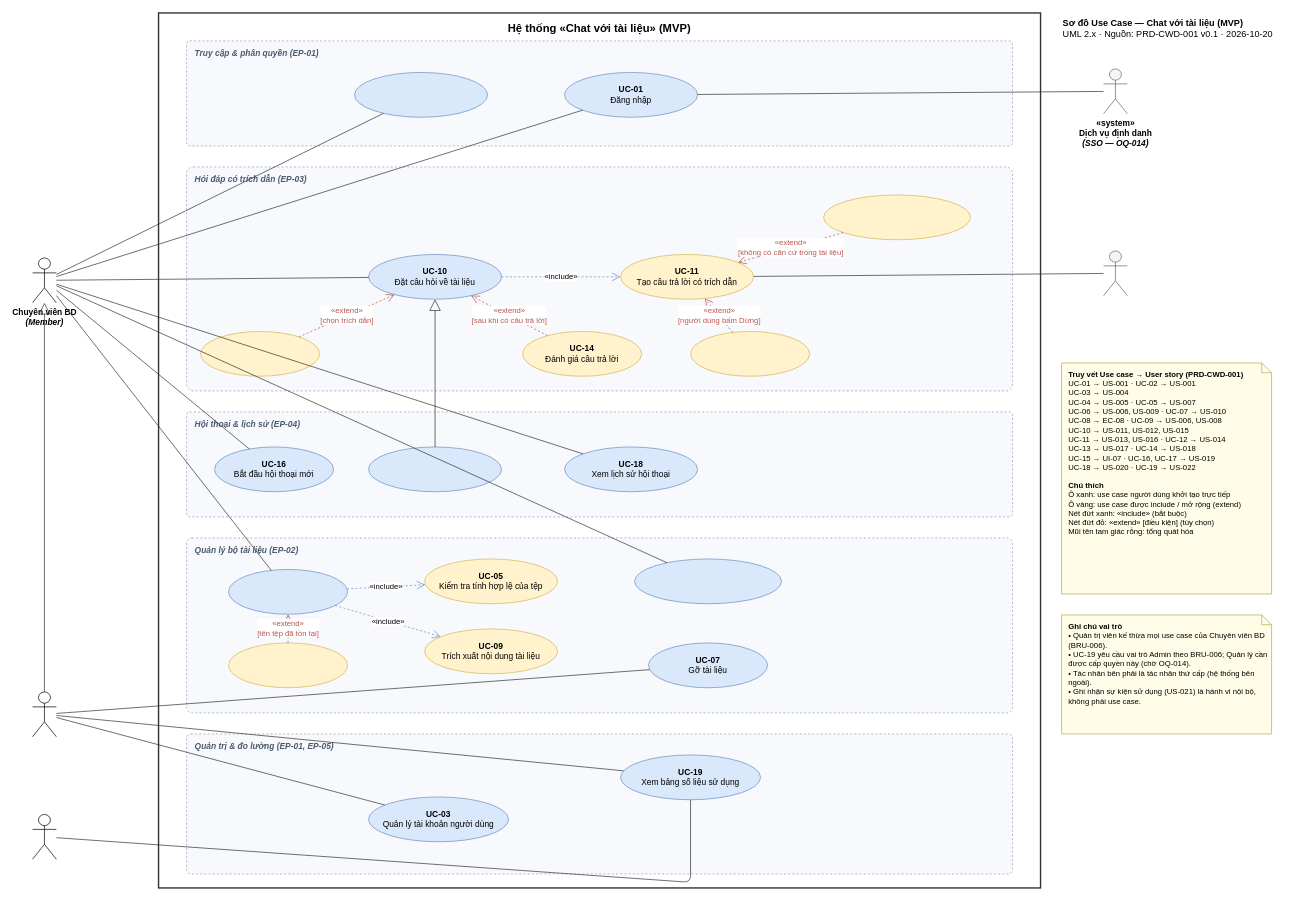
Image size: 1297x900. Some labels were removed from this diagram. Here are the shapes that lost their labels. From the top down, the centre of each, then its label:
(421,94): UC-02 Đăng xuất
(897,217): UC-12 Thông báo không tìm thấy thông tin
(1115,273): «system» Dịch vụ AI ngôn ngữ (DEP-001, OQ-008)
(260,353): UC-13 Xem nguồn trích dẫn
(750,353): UC-15 Dừng tạo câu trả lời
(435,469): UC-17 Hỏi câu nối tiếp
(288,591): UC-04 Tải lên tài liệu PDF
(708,581): UC-06 Xem danh sách & trạng thái tài liệu
(288,665): UC-08 Xử lý trùng tên tệp
(44,714): Quản trị viên (Admin)
(44,836): Quản lý
